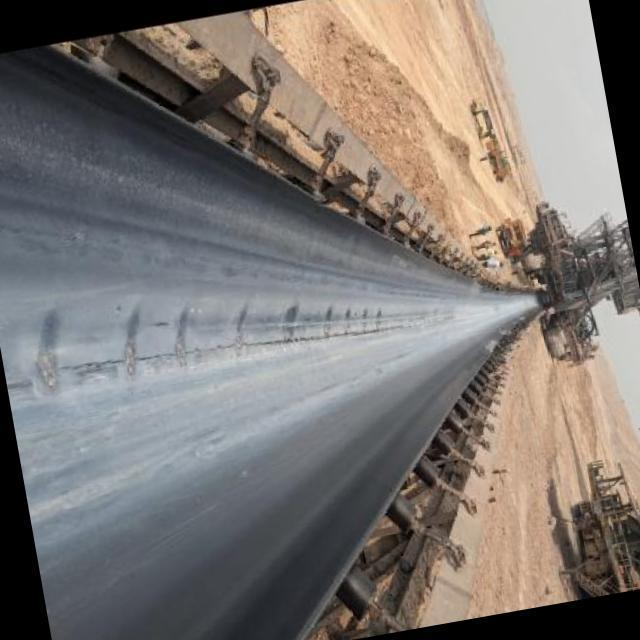Tear: (6, 204, 408, 398)
